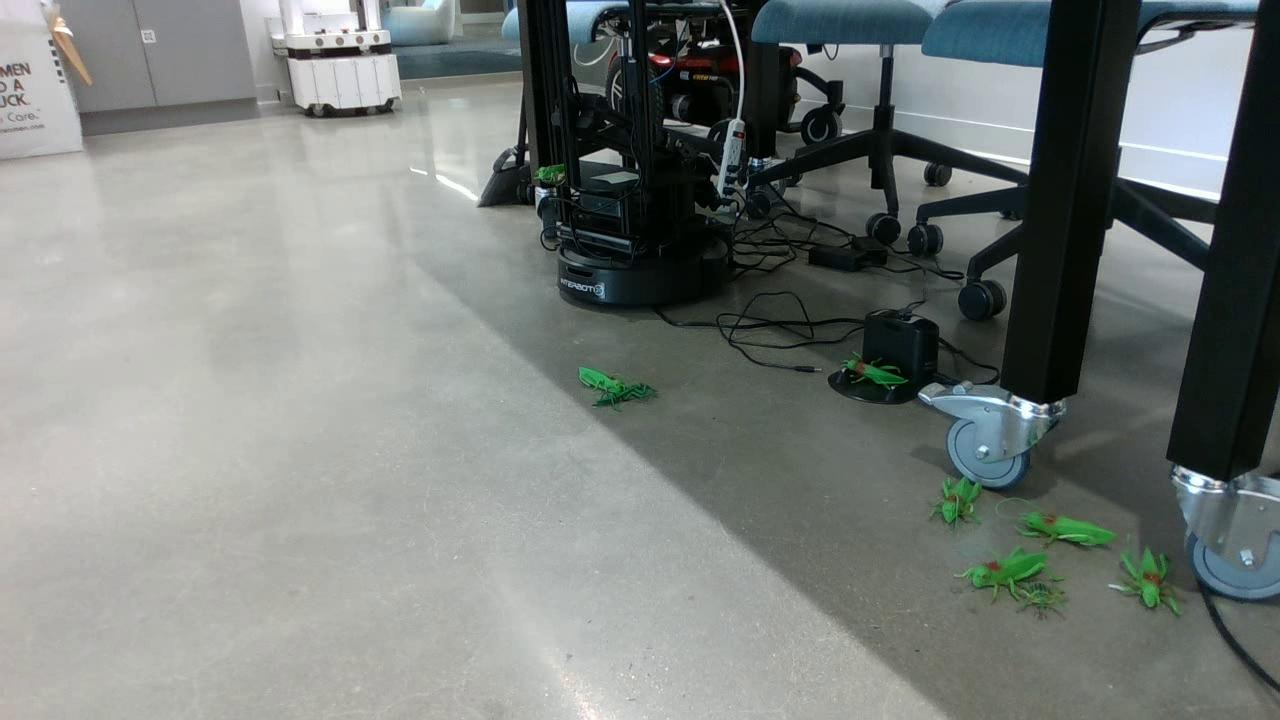grasshopper: (1117, 533, 1181, 624), (1025, 502, 1110, 562), (948, 552, 1058, 586), (833, 350, 908, 391), (934, 476, 983, 525), (575, 365, 626, 394), (534, 165, 567, 186)
